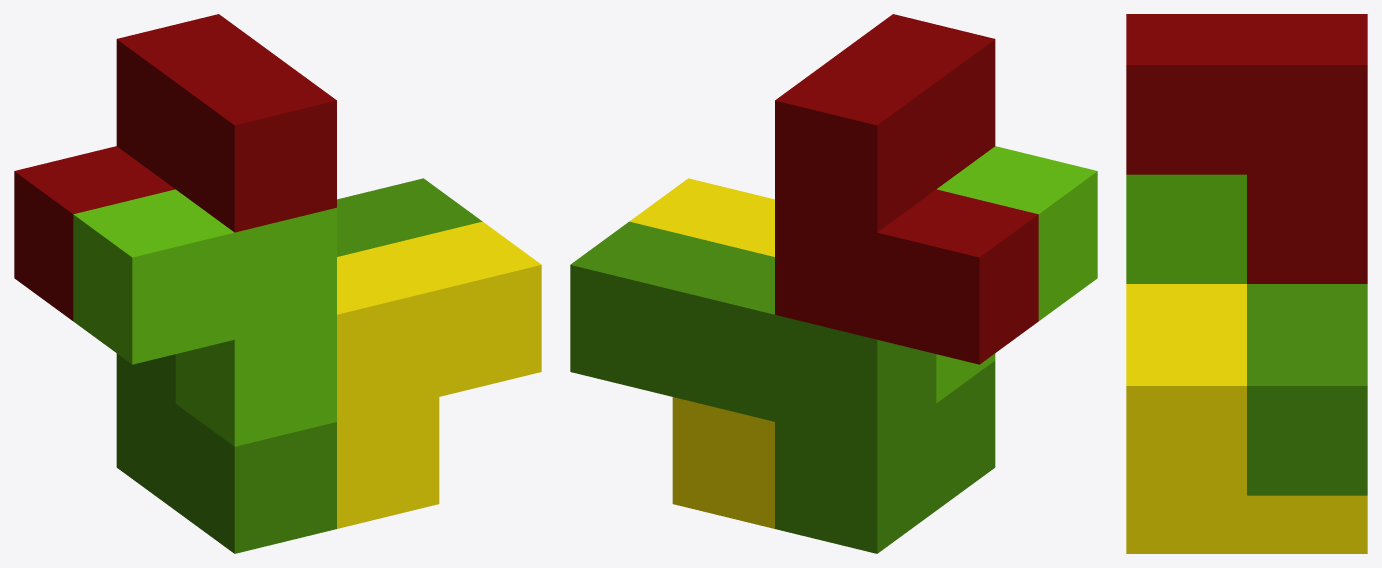
3 views of the same model, side by side, from view 1: azimuth 30°, elevation 25°; view 2: azimuth 150°, elevation 25°; view 3: azimuth 270°, elevation 25° (orthographic). The views are drawn at different scales.
Parts seen in each view (by area): view 1: mergedBlocks(Clone); view 2: mergedBlocks(Clone); view 3: mergedBlocks(Clone).
Boxes of the visible parts, bbox=[...] form: mergedBlocks(Clone): bbox=[14, 14, 541, 553]; mergedBlocks(Clone): bbox=[570, 14, 1097, 553]; mergedBlocks(Clone): bbox=[1126, 14, 1367, 553].
Bounding box in the file's own units: 4 × 4 × 2.
Materials: 4 (4 with a texture image).
